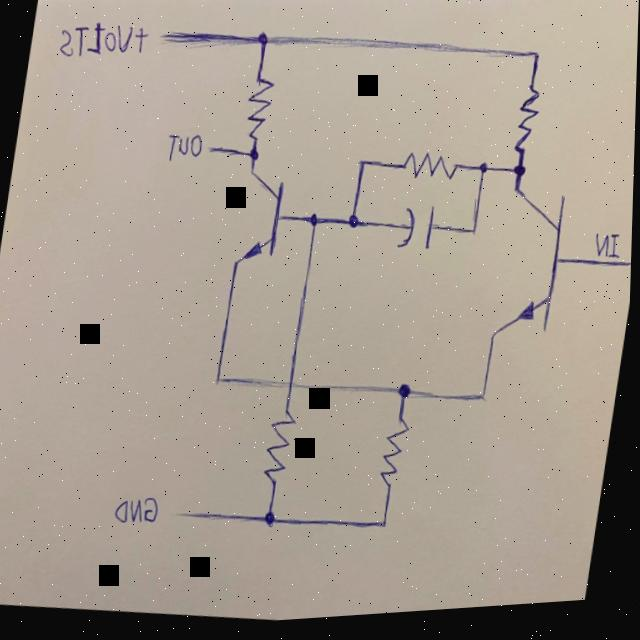capacitor: (392, 203, 441, 265)
crossover: (280, 372, 305, 399)
junction: (254, 503, 288, 538), (302, 207, 329, 243), (391, 379, 421, 411), (250, 26, 274, 57), (342, 210, 368, 238), (206, 367, 231, 396), (476, 386, 499, 415), (474, 158, 496, 187), (464, 221, 486, 250), (509, 162, 533, 187), (375, 514, 398, 540), (523, 49, 545, 73), (353, 155, 373, 180), (243, 144, 263, 167)
resistor: (258, 408, 302, 495), (374, 418, 416, 504), (395, 149, 466, 193), (241, 72, 276, 147), (512, 86, 545, 163)
terminal: (151, 21, 204, 55), (169, 500, 207, 530), (204, 139, 232, 161), (612, 263, 633, 284)
text: (54, 14, 133, 66), (114, 490, 164, 530), (164, 131, 206, 167), (594, 236, 623, 267), (131, 24, 151, 57)
transistor: (483, 189, 576, 353), (218, 168, 291, 276)
